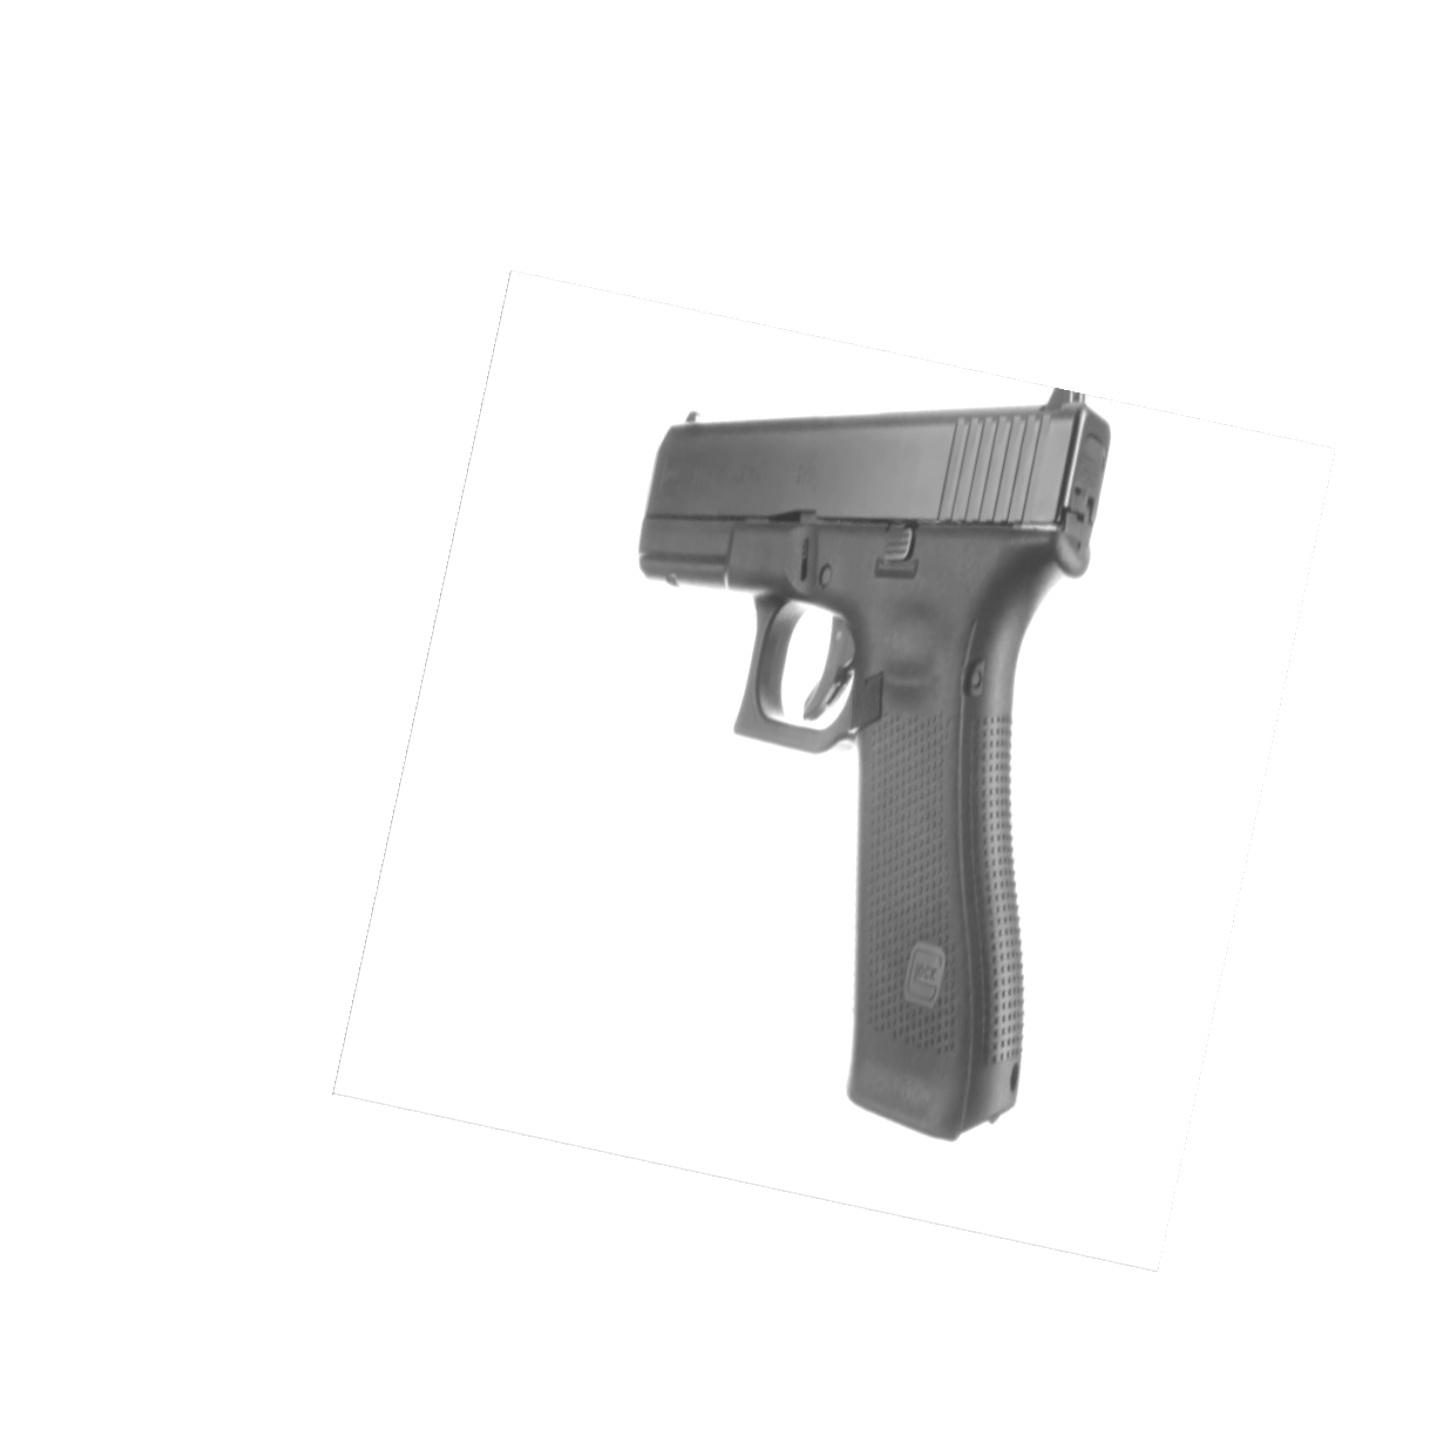gun: (623, 385, 1125, 1147)
